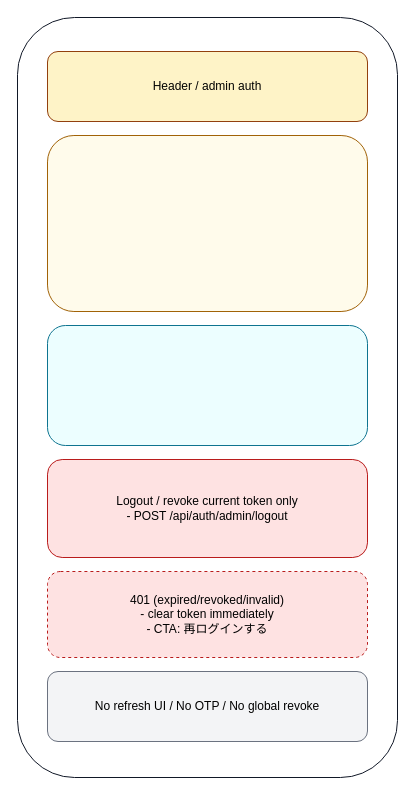
This 415x795 diagram has some shape labels left out. The box of each missing label's shape, as (x1, y1, x2, y2) in pixels:
Login card - 運用者ID(operatorId) - password - submit: (46, 134, 368, 312)
Token summary - expiresAt (30min fixed) - storage: sessionStorage: (46, 324, 368, 446)
